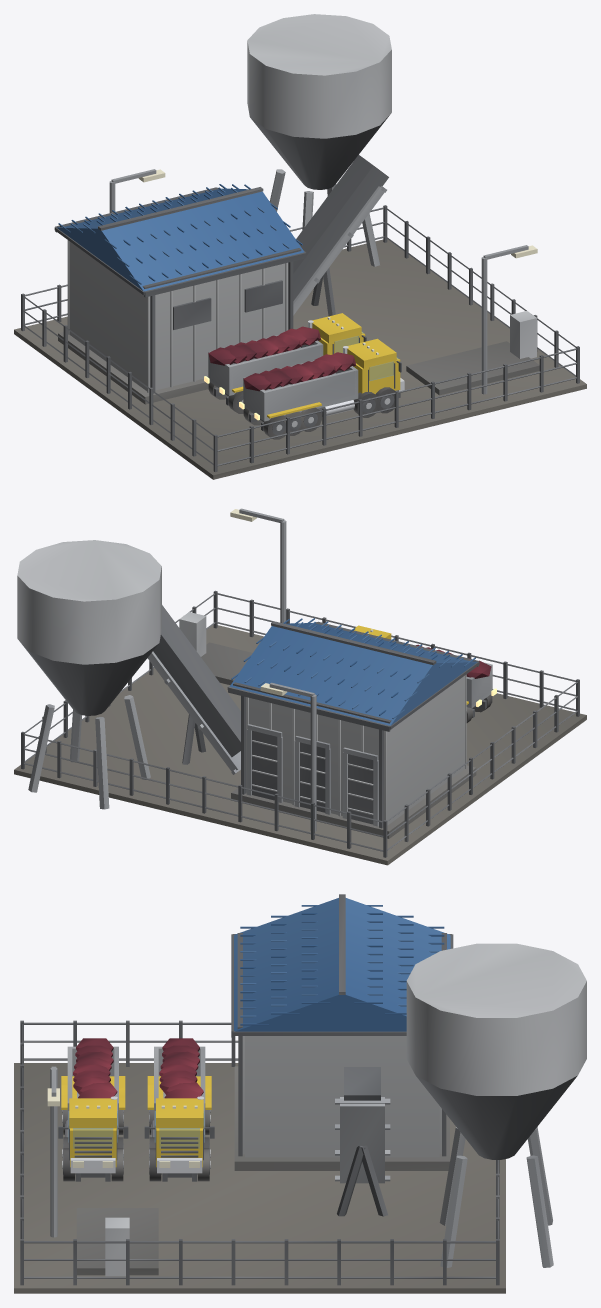
The model's file is Haul_P2.fbx.
3 views of the same model, one above another, from view 1: azimuth 30°, elevation 25°; view 2: azimuth 150°, elevation 25°; view 3: azimuth 270°, elevation 25° (orthographic). The views are drawn at different scales.
Visible parts, largest first — view 1: Haul.Workshop, Haul.Yard, Haul.Hopper, Haul.Parked1, Haul.Fence, Haul.Conv, Haul.Parked0, Haul.Weighbridge, Haul.Lamp0, Haul.Lamp1; view 2: Haul.Workshop, Haul.Yard, Haul.Hopper, Haul.Fence, Haul.Conv, Haul.Weighbridge, Haul.Parked1, Haul.Lamp1, Haul.Lamp0; view 3: Haul.Yard, Haul.Workshop, Haul.Hopper, Haul.Fence, Haul.Parked0, Haul.Parked1, Haul.Conv, Haul.Weighbridge, Haul.Lamp0.
Boxes of the visible parts, left/top/right/bottom form: Haul.Workshop: left=54, top=184, right=306, bottom=404; Haul.Yard: left=14, top=239, right=586, bottom=479; Haul.Hopper: left=247, top=14, right=391, bottom=266; Haul.Parked1: left=239, top=338, right=404, bottom=439; Haul.Fence: left=21, top=205, right=579, bottom=472; Haul.Conv: left=293, top=155, right=388, bottom=316; Haul.Parked0: left=204, top=313, right=366, bottom=413; Haul.Weighbridge: left=406, top=311, right=539, bottom=395; Haul.Lamp0: left=481, top=245, right=537, bottom=394; Haul.Lamp1: left=109, top=169, right=165, bottom=212; Haul.Workshop: left=227, top=618, right=479, bottom=838; Haul.Yard: left=14, top=625, right=586, bottom=865; Haul.Hopper: left=17, top=540, right=161, bottom=809; Haul.Fence: left=21, top=590, right=579, bottom=857; Haul.Conv: left=148, top=605, right=240, bottom=774; Haul.Weighbridge: left=179, top=612, right=252, bottom=684; Haul.Parked1: left=354, top=625, right=496, bottom=722; Haul.Lamp1: left=260, top=682, right=316, bottom=831; Haul.Lamp0: left=230, top=508, right=286, bottom=623; Haul.Yard: left=14, top=1063, right=505, bottom=1293; Haul.Workshop: left=231, top=894, right=453, bottom=1170; Haul.Hopper: left=406, top=943, right=586, bottom=1267; Haul.Fence: left=20, top=1020, right=499, bottom=1285; Haul.Parked0: left=144, top=1038, right=214, bottom=1181; Haul.Parked1: left=58, top=1038, right=128, bottom=1181; Haul.Conv: left=335, top=1067, right=390, bottom=1216; Haul.Weighbridge: left=76, top=1208, right=158, bottom=1276; Haul.Lamp0: left=47, top=1066, right=59, bottom=1237.
Size of the model in its own units: 2600 by 1456 by 2795.
